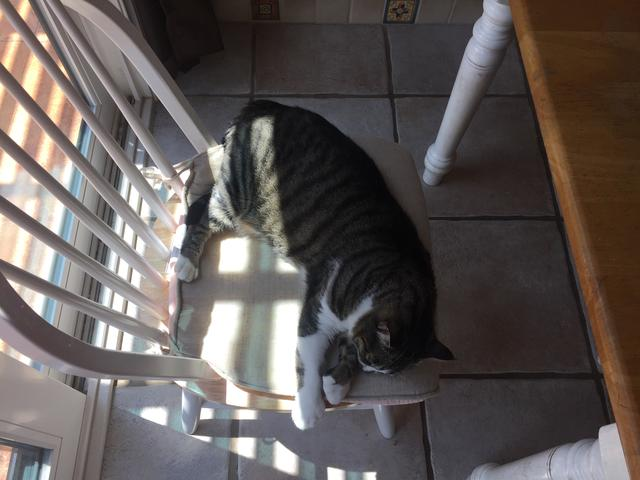playdoh: (166, 102, 460, 435)
